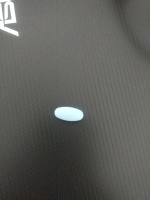Apranax: (54, 105, 85, 123)
